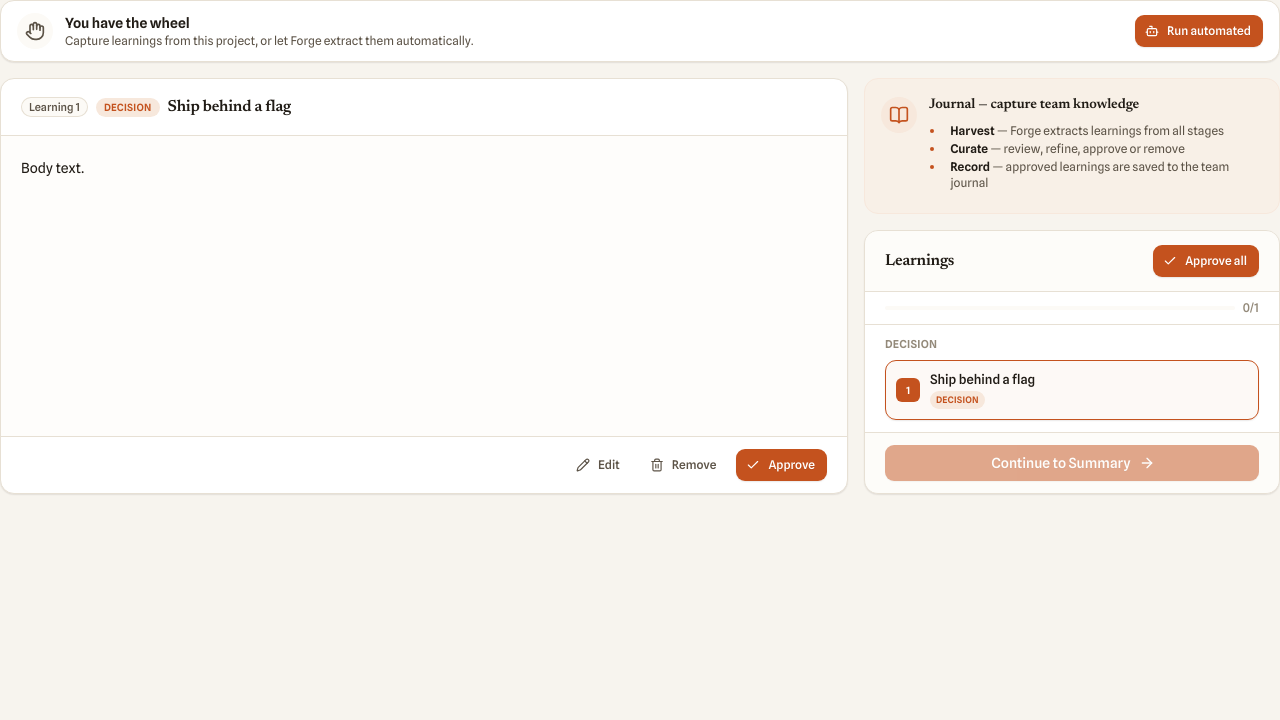
Scenario: JournalStageClient — editing a learning › names both editors, so they are not identified by a placeholder that vanishes on input
This screenshot has width=1280, height=720.
Click the button "Edit" at (599, 465), box [566,449,632,481]
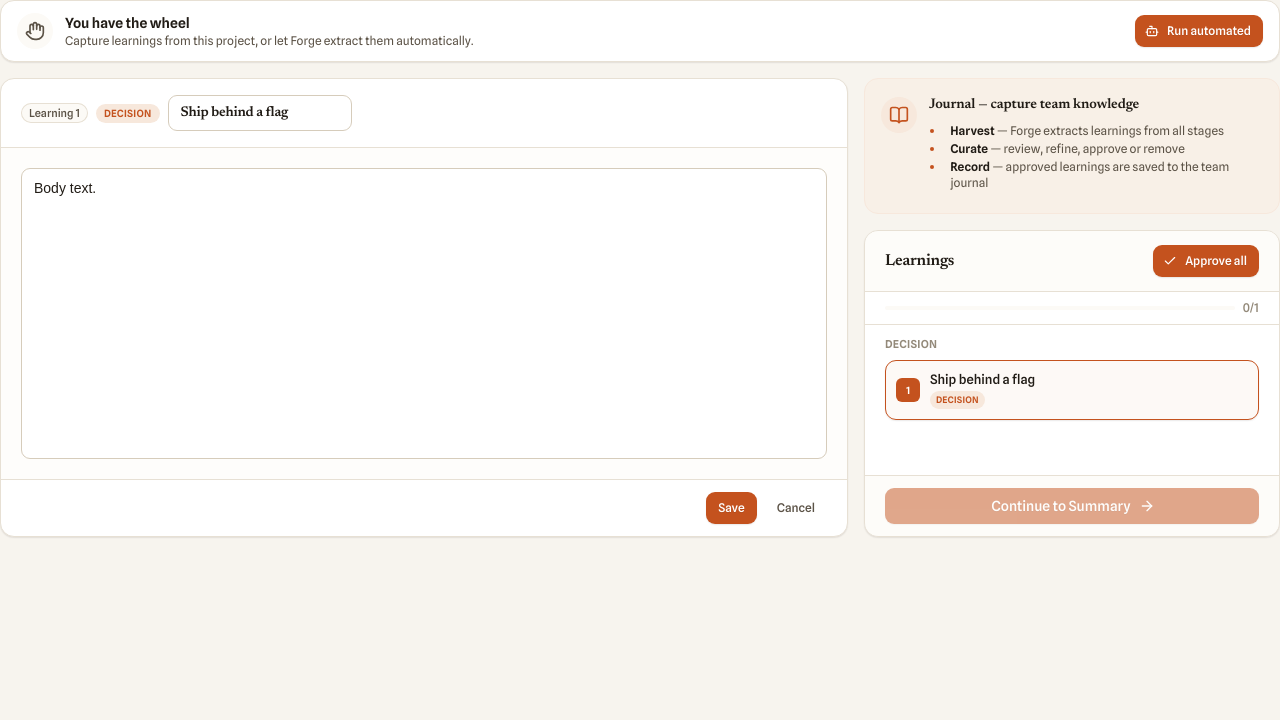
Result: the field named "Learning heading" is shown at [168,95,352,131]
Result: the text box named "Learning body" is shown at [21,168,827,459]
